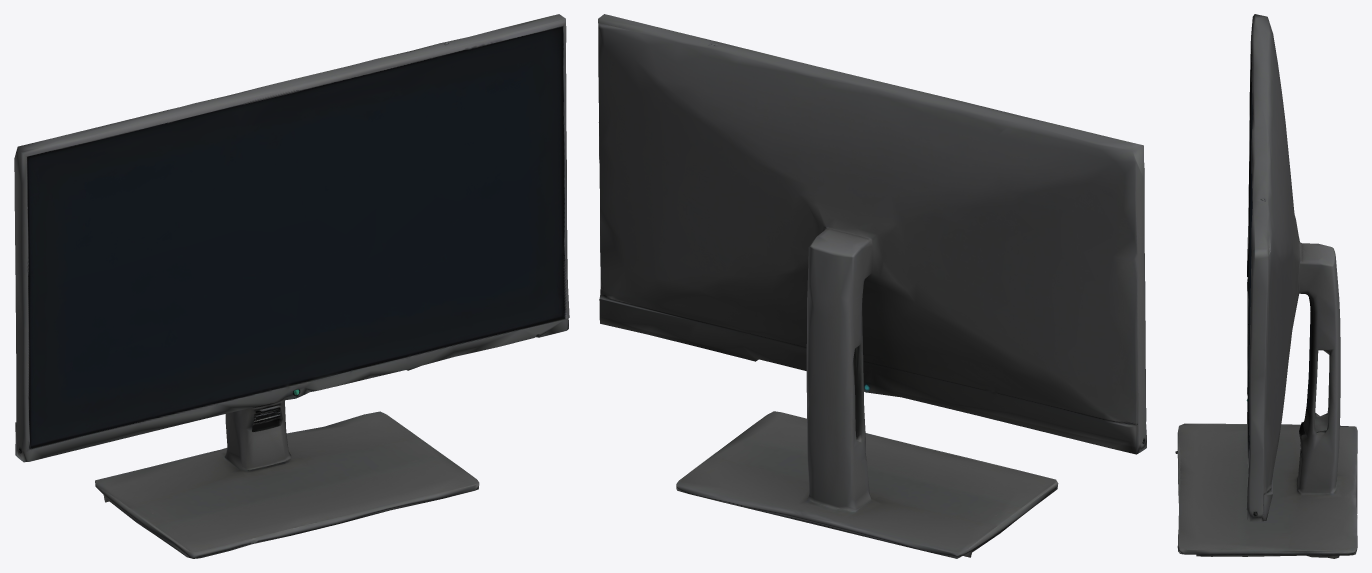
Rendered from 21_monitor.glb.
3 renders of one model, left to right at view 1: azimuth 30°, elevation 25°; view 2: azimuth 150°, elevation 25°; view 3: azimuth 270°, elevation 25°, orthographic. The views are drawn at different scales.
Visible parts, largest first — view 1: tripo_node_ca03c270-717b-437b-8c1a-9bed3f606071; view 2: tripo_node_ca03c270-717b-437b-8c1a-9bed3f606071; view 3: tripo_node_ca03c270-717b-437b-8c1a-9bed3f606071.
Part boxes in pixels (x1=…): tripo_node_ca03c270-717b-437b-8c1a-9bed3f606071: x1=14, y1=14, x2=569, y2=558; tripo_node_ca03c270-717b-437b-8c1a-9bed3f606071: x1=598, y1=14, x2=1146, y2=558; tripo_node_ca03c270-717b-437b-8c1a-9bed3f606071: x1=1175, y1=14, x2=1357, y2=558.
Bounding box in the file's own units: 0.55 × 0.4 × 0.18.
1 material, 1 textured.
